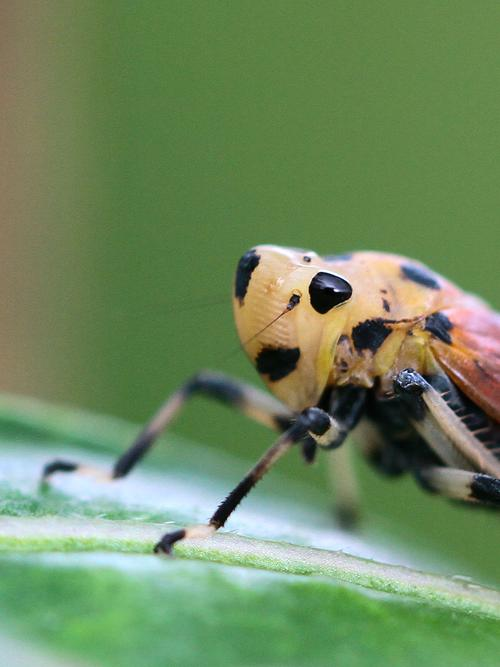Cicadellidae: (44, 244, 500, 556)
